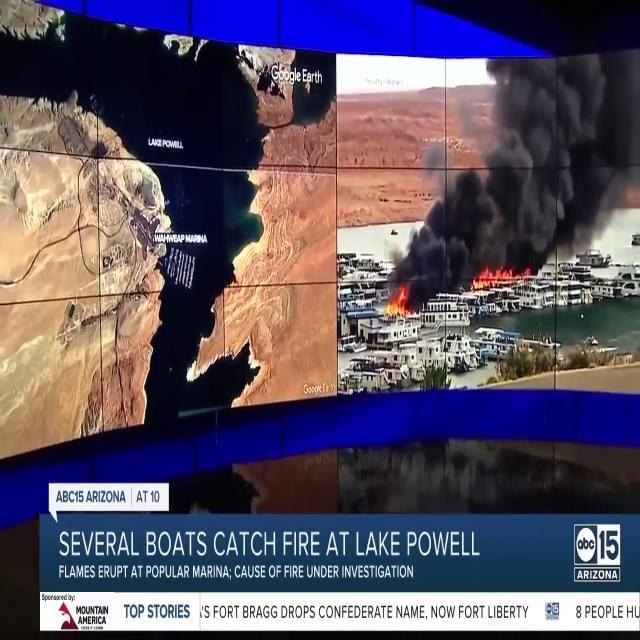Fire: (470, 262, 516, 292), (380, 283, 412, 321)
Smoke: (400, 55, 640, 285)
